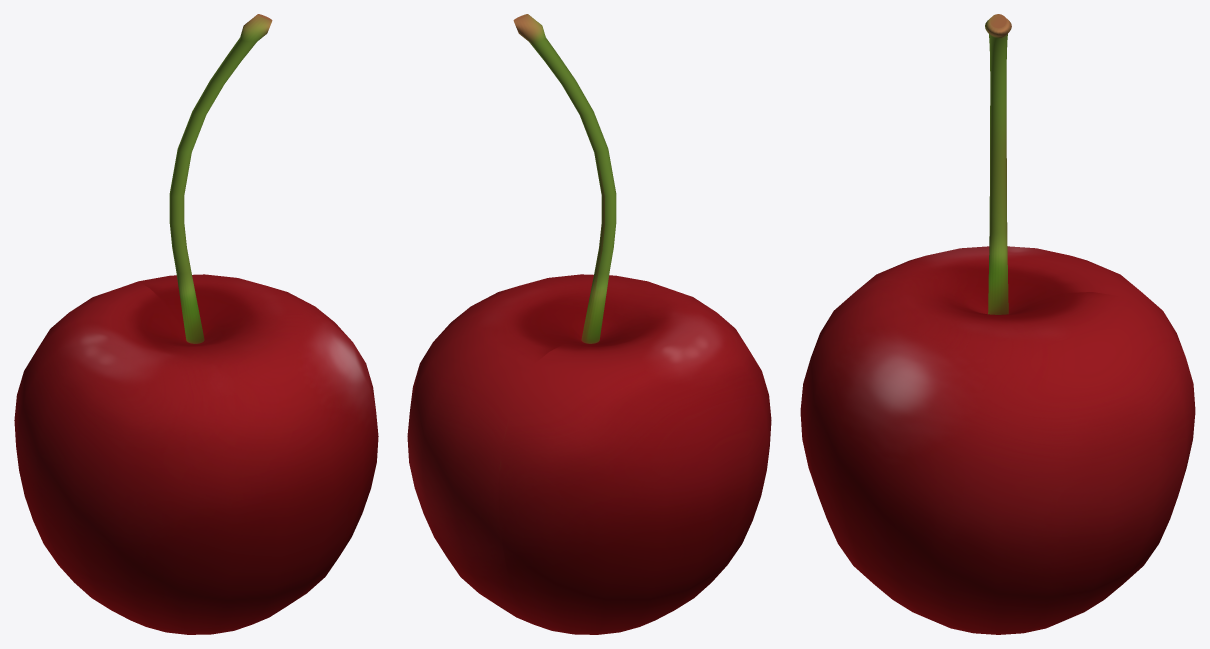
The model's file is CherryUVd.fbx.
The picture shows the model from 3 angles, left to right: view 1: azimuth 30°, elevation 25°; view 2: azimuth 150°, elevation 25°; view 3: azimuth 270°, elevation 25°; orthographic projection. The views are drawn at different scales.
Visible parts, largest first — view 1: cherry_msh01; view 2: cherry_msh01; view 3: cherry_msh01.
Boxes of the visible parts, <box> form: cherry_msh01: <box>14,14,378,634</box>; cherry_msh01: <box>407,14,771,634</box>; cherry_msh01: <box>800,14,1195,634</box>.
Size of the model in its own units: 2.18 by 3.8 by 2.18.
Materials: 1 (1 with a texture image).
